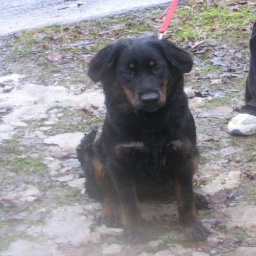dog: (74, 38, 213, 238)
